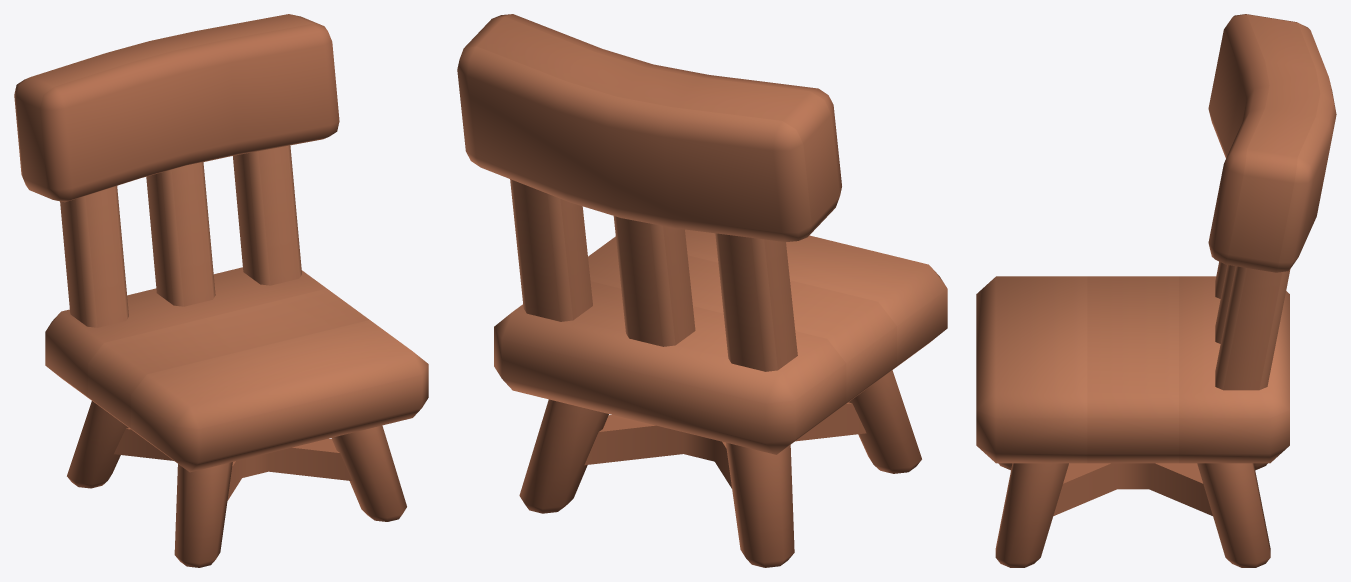
Rendered from chair.glb.
3 views of the same model, side by side, from view 1: azimuth 30°, elevation 25°; view 2: azimuth 150°, elevation 25°; view 3: azimuth 270°, elevation 25° (orthographic). The views are drawn at different scales.
Visible parts, largest first — view 1: chair; view 2: chair; view 3: chair.
Boxes of the visible parts, x1,y1,x2,y2 form: chair: (14,14,428,567); chair: (457,14,947,567); chair: (976,14,1336,567).
Bounding box in the file's own units: 0.9128 × 1.21 × 0.9191.
Materials: 1 (1 with a texture image).
